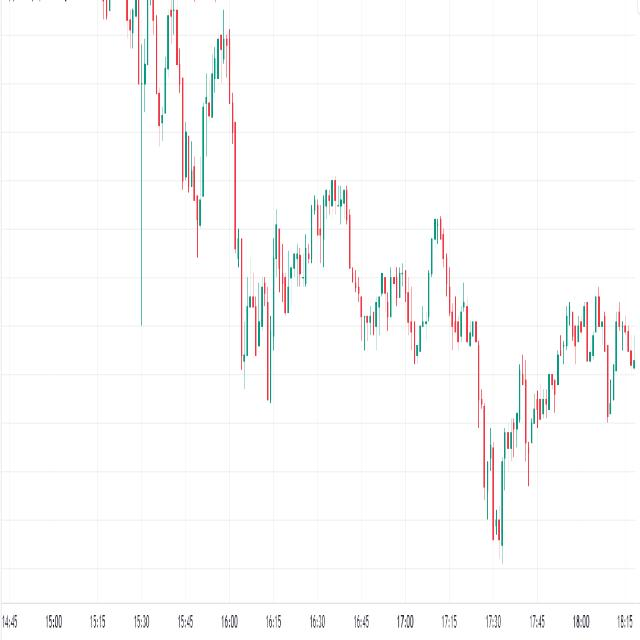Rising-Wedge: (212, 152, 378, 491)
